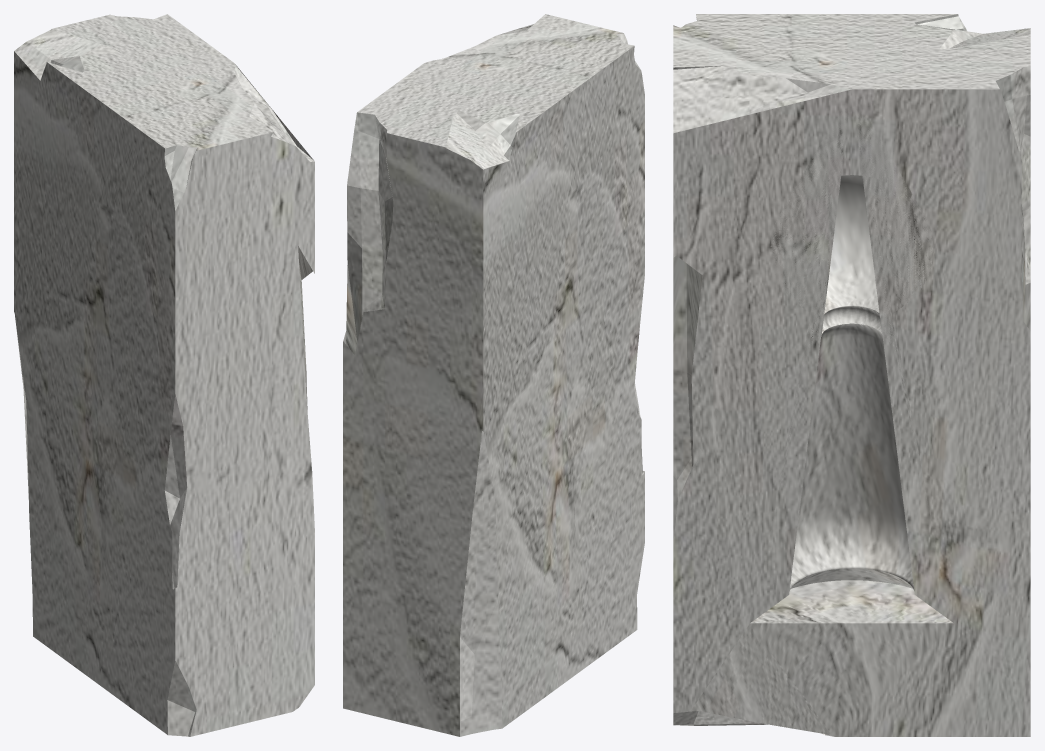
File: mold1.fbx
The picture shows the model from 3 angles, left to right: view 1: azimuth 30°, elevation 25°; view 2: azimuth 150°, elevation 25°; view 3: azimuth 270°, elevation 25°; orthographic projection. The views are drawn at different scales.
Parts seen in each view (by area): view 1: mold_ani_1; view 2: mold_ani_1; view 3: mold_ani_1.
Part boxes in pixels (left/top/right/bottom): mold_ani_1: left=14, top=14, right=314, bottom=736; mold_ani_1: left=343, top=14, right=644, bottom=736; mold_ani_1: left=673, top=14, right=1030, bottom=736.
Size of the model in its own units: 10 by 40 by 20.
1 material, 1 textured.
